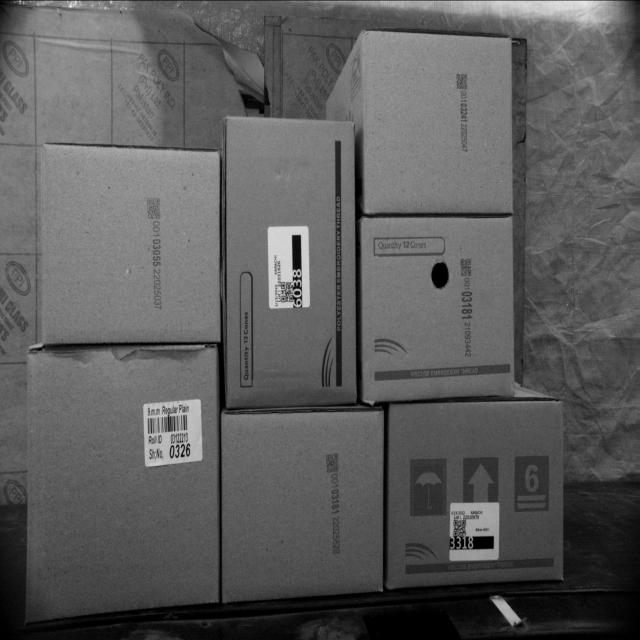cardboxes: (32, 341, 220, 614), (222, 112, 358, 404), (37, 146, 222, 339), (388, 397, 565, 590), (220, 411, 386, 592), (362, 28, 515, 215), (360, 214, 514, 396)
